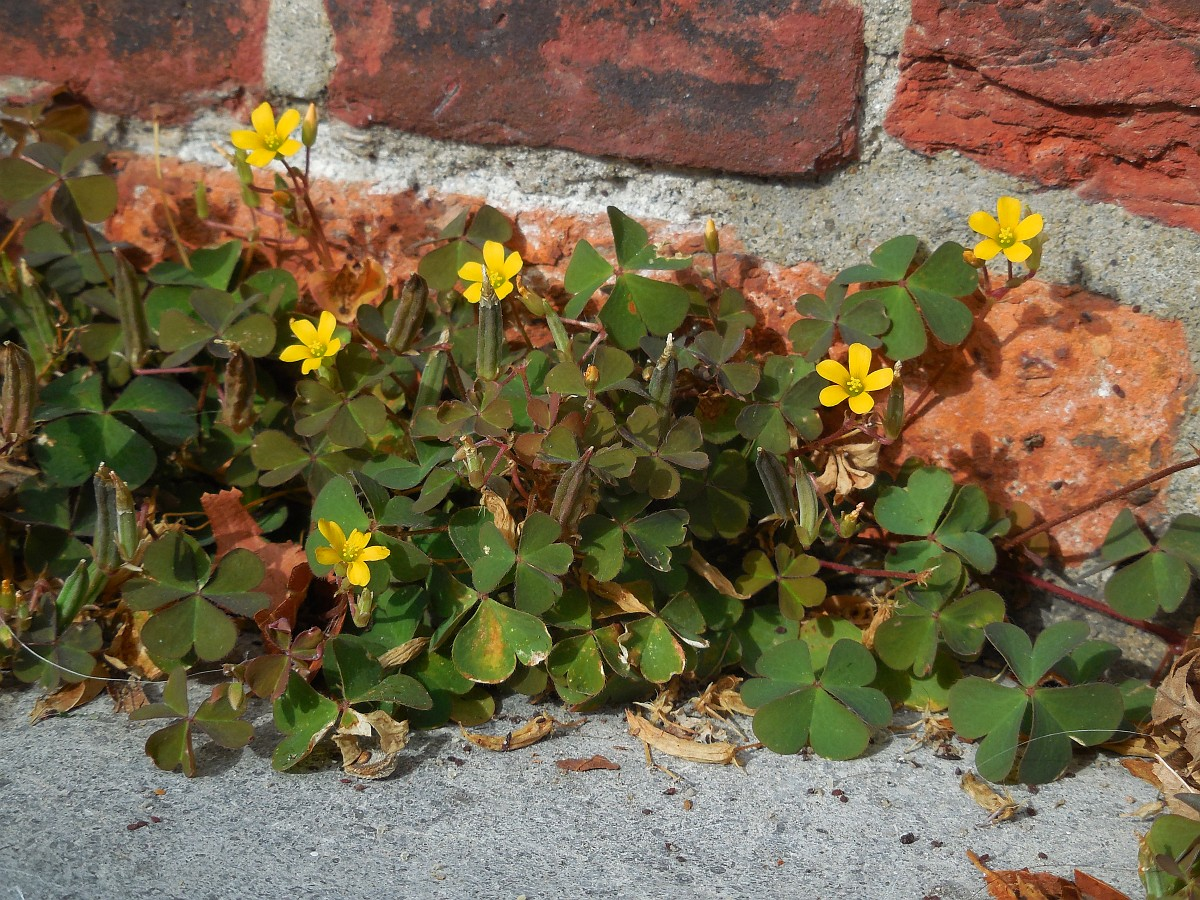oxalis: (94, 167, 1164, 796)
